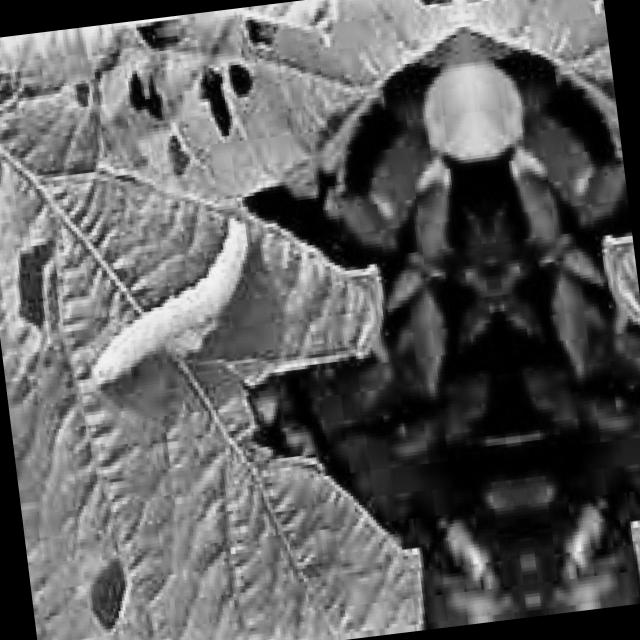Armyworm: (68, 217, 276, 383)
Armyworm_damage: (4, 208, 91, 364), (67, 543, 149, 638), (192, 64, 244, 154), (124, 69, 178, 143)
